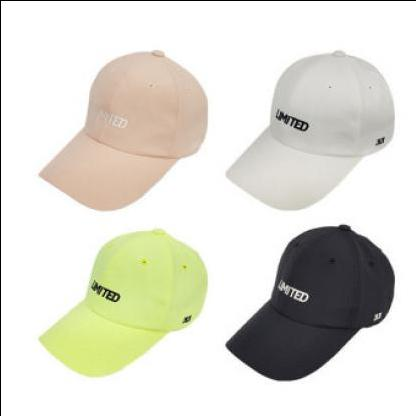cap: (20, 220, 214, 386), (25, 43, 212, 214), (222, 46, 400, 213), (222, 222, 400, 386)
